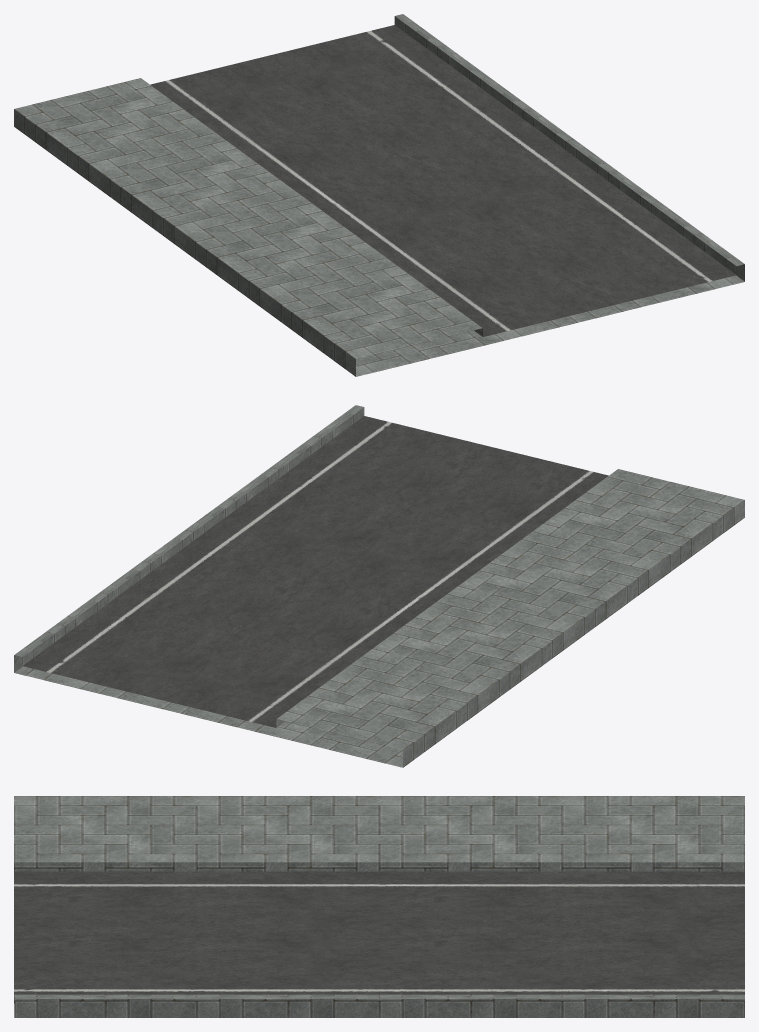
Rendered from Straight 6 Lane Sided + Very Small Side.fbx.
3 renders of one model, top to bottom at view 1: azimuth 30°, elevation 25°; view 2: azimuth 150°, elevation 25°; view 3: azimuth 270°, elevation 25°, orthographic. The views are drawn at different scales.
Visible parts, largest first — view 1: Plane; view 2: Plane; view 3: Plane.
Boxes of the visible parts, x1,y1,x2,y2 form: Plane: [14, 14, 744, 376]; Plane: [14, 405, 744, 767]; Plane: [14, 796, 744, 1017].
Size of the model in its own units: 920 by 40 by 1400.
